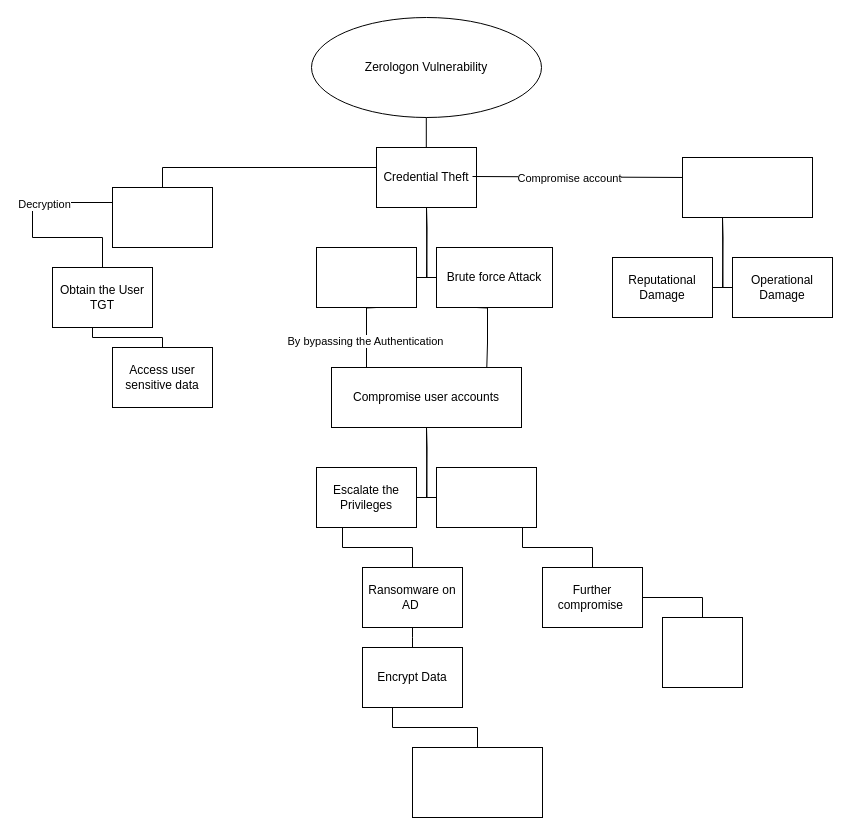
Some shapes in this 850 by 835 pixel diagram are drawn without their labels. The shapes that lost their labels are listed below. From the top down, each one's centre as x and y in pixels, then its label:
At (x=747, y=187): "Data Manipulation".
At (x=162, y=217): "Obtain the Ticket".
At (x=366, y=277): "Pass the Ticket attack".
At (x=486, y=497): "Lateral Movement".
At (x=702, y=652): "Data Exfiltration".
At (x=477, y=782): "Complete the attack and demand a ransom".
